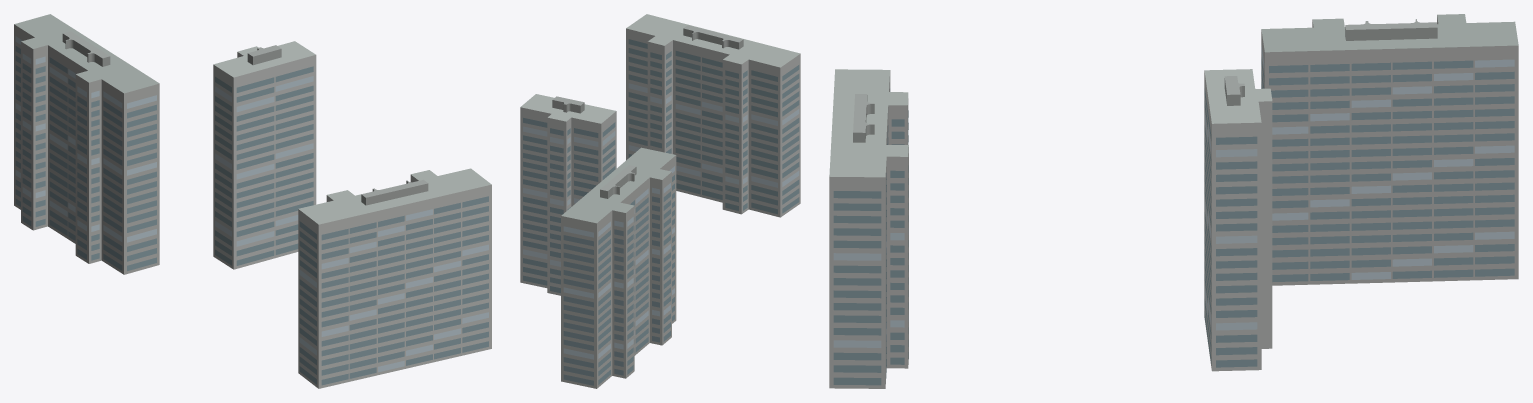
File: apt-a13202103.glb
3 views of the same model, side by side, from view 1: azimuth 30°, elevation 25°; view 2: azimuth 150°, elevation 25°; view 3: azimuth 270°, elevation 25° (orthographic). The views are drawn at different scales.
Visible parts, largest first — view 1: apt-a13202103; view 2: apt-a13202103; view 3: apt-a13202103.
Part boxes in pixels (<box>): apt-a13202103: <box>14,14,491,388</box>; apt-a13202103: <box>520,14,800,388</box>; apt-a13202103: <box>829,14,1518,388</box>.
Size of the model in its own units: 65.68 by 56 by 135.
